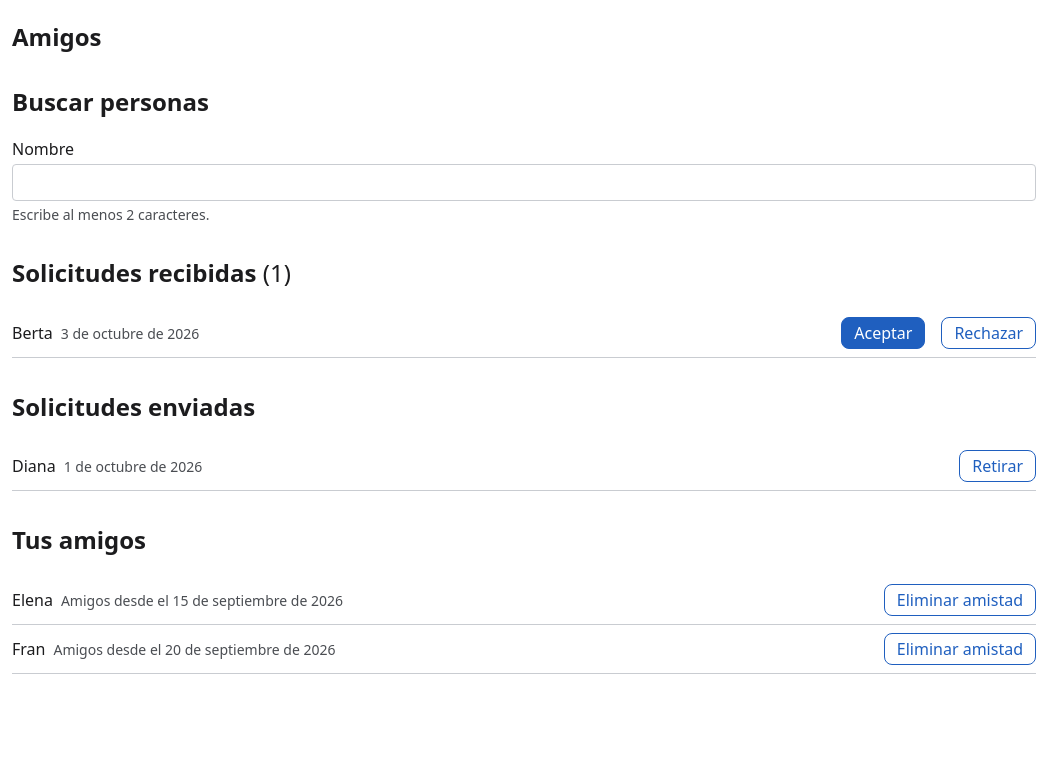
Test case: AmigosComponent › aceptar › aceptar la última solicitud deja el contador en 0 y el mensaje de vacío
This screenshot has width=1048, height=768.
Click the button "Aceptar" at {"x": 883, "y": 332}, box [841,316,925,348]
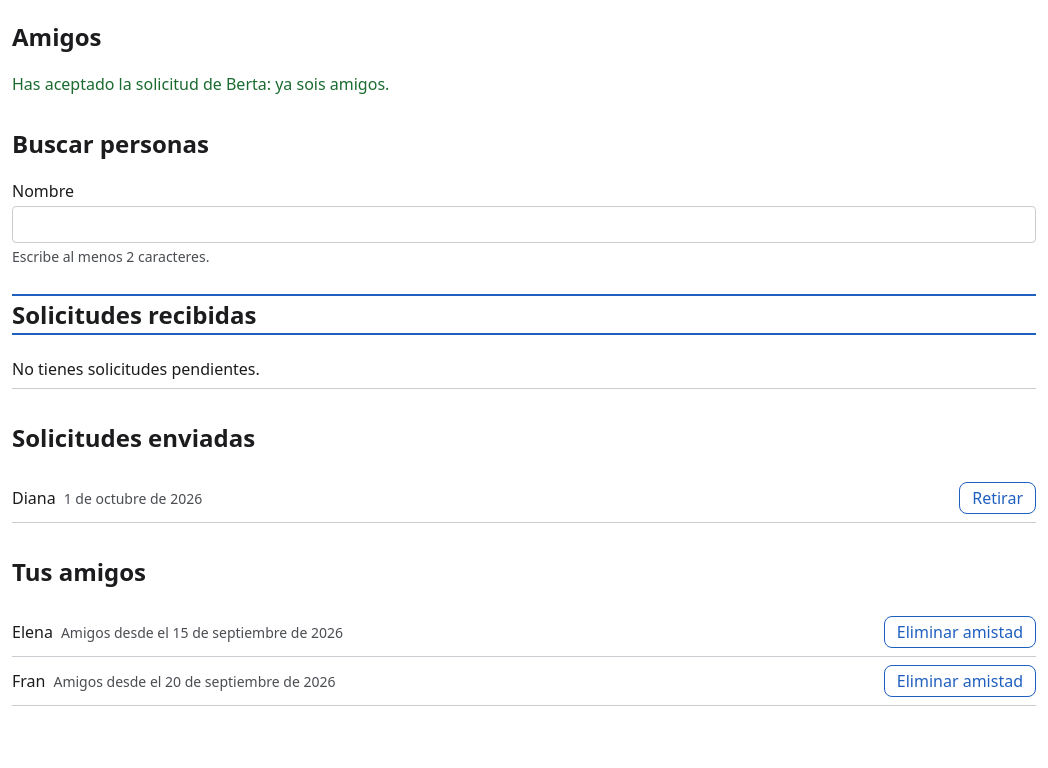
Result: the element with class "bloque" shows "No tienes solicitudes pendientes" at [12,358,260,380]
